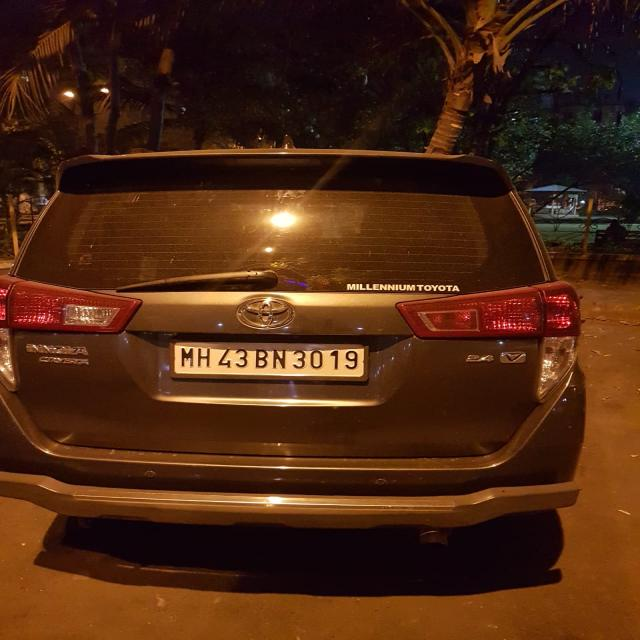Number-Plate: (172, 339, 365, 374)
